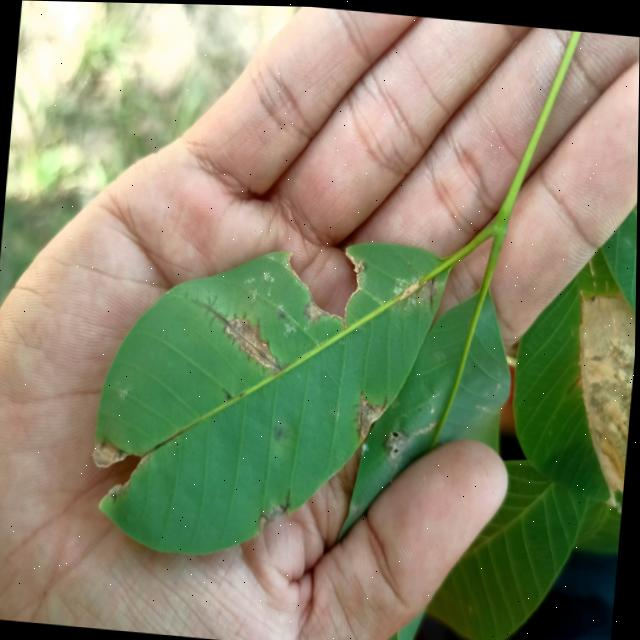Corynespora: (203, 300, 290, 372), (142, 422, 187, 461), (353, 386, 367, 437), (281, 483, 295, 515)
Leaf-Blight: (562, 288, 637, 516), (93, 438, 131, 468), (361, 397, 387, 439)
